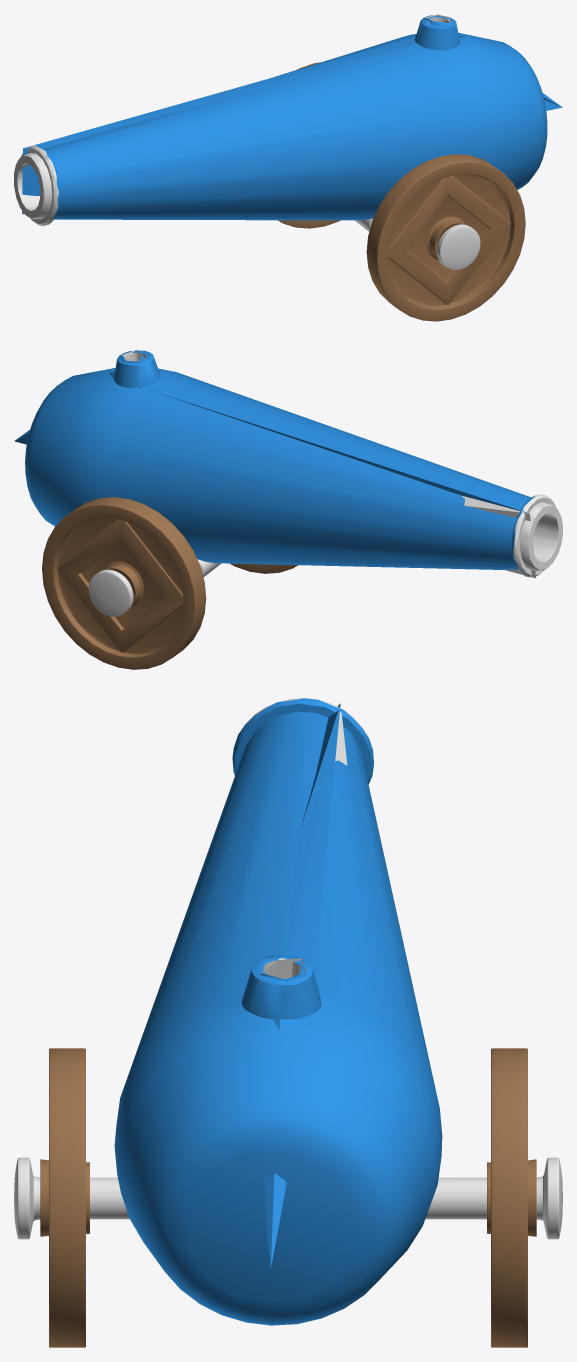
File: Canon.fbx
3 views of the same model, one above another, from view 1: azimuth 30°, elevation 25°; view 2: azimuth 150°, elevation 25°; view 3: azimuth 270°, elevation 25° (orthographic). The views are drawn at different scales.
Visible parts, largest first — view 1: Cylinder_LOD0, Circle, Cylinder, Canon, Circle.001; view 2: Cylinder_LOD0, Circle.001, Cylinder, Canon, Circle; view 3: Cylinder_LOD0, Circle, Circle.001, Cylinder, Canon.
Part boxes in pixels (left/top/right/bottom): Cylinder_LOD0: left=14, top=15, right=547, bottom=226; Circle: left=366, top=154, right=525, bottom=321; Cylinder: left=22, top=14, right=562, bottom=214; Canon: left=354, top=218, right=480, bottom=269; Circle.001: left=278, top=62, right=340, bottom=228; Cylinder_LOD0: left=25, top=350, right=562, bottom=577; Circle.001: left=42, top=497, right=206, bottom=669; Cylinder: left=14, top=350, right=535, bottom=578; Canon: left=88, top=559, right=221, bottom=616; Circle: left=230, top=563, right=297, bottom=573; Cylinder_LOD0: left=114, top=698, right=442, bottom=1325; Circle: left=40, top=1048, right=89, bottom=1347; Circle.001: left=487, top=1048, right=536, bottom=1347; Cylinder: left=260, top=703, right=347, bottom=1268; Canon: left=14, top=1157, right=562, bottom=1239.
Size of what is drawn, in the model's own units: 460 by 887 by 383.
